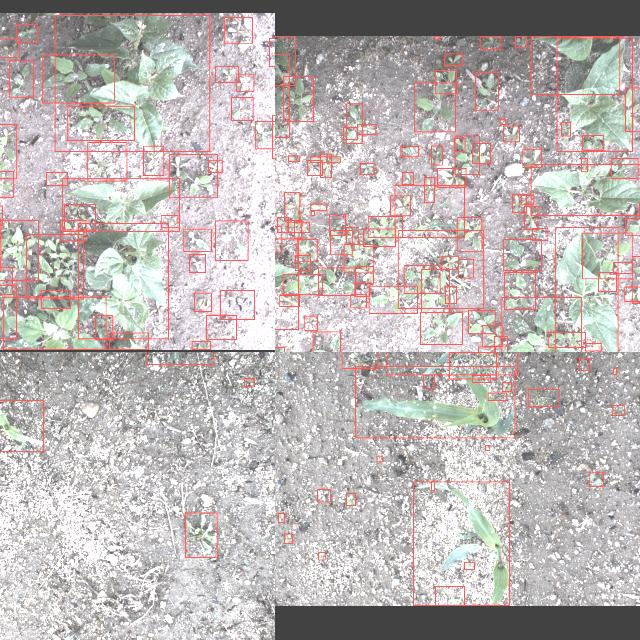crop: (54, 15, 210, 152), (412, 482, 508, 606), (356, 366, 514, 438), (78, 223, 168, 339), (556, 37, 632, 151), (554, 227, 617, 352), (62, 178, 178, 232), (529, 164, 640, 215), (2, 296, 106, 349), (530, 36, 620, 94), (386, 352, 517, 375), (0, 400, 43, 451), (275, 238, 298, 329), (275, 36, 295, 85)
weed: (397, 230, 483, 308), (500, 297, 581, 352), (25, 234, 83, 300), (394, 185, 464, 237), (42, 54, 114, 102), (66, 106, 134, 140), (582, 233, 632, 279), (0, 220, 38, 280), (169, 154, 217, 198), (414, 82, 454, 132), (88, 142, 126, 180), (186, 512, 217, 558), (368, 286, 418, 314), (283, 76, 313, 122), (420, 313, 462, 345), (215, 221, 247, 261), (448, 352, 495, 378), (421, 270, 449, 312), (504, 272, 534, 310), (503, 240, 541, 270), (317, 268, 355, 296), (220, 290, 254, 320), (403, 265, 439, 293), (8, 60, 34, 96), (474, 72, 498, 110), (454, 136, 478, 174), (0, 123, 16, 178), (457, 217, 481, 251), (145, 352, 213, 364), (343, 244, 372, 272), (0, 285, 15, 339), (64, 204, 95, 230), (282, 274, 322, 294), (206, 314, 236, 340), (368, 216, 402, 238), (624, 87, 640, 131), (109, 332, 148, 350), (224, 18, 252, 42), (142, 146, 164, 176), (345, 103, 361, 143), (468, 310, 494, 334), (183, 229, 211, 251), (548, 332, 586, 348), (434, 586, 464, 606), (312, 331, 340, 352), (363, 229, 395, 247), (341, 352, 377, 368), (60, 220, 86, 242), (330, 230, 352, 256), (610, 158, 638, 178), (255, 121, 275, 148), (40, 291, 70, 309), (436, 168, 466, 186), (434, 69, 456, 93), (528, 389, 558, 406), (230, 98, 252, 120), (630, 256, 640, 303), (296, 239, 316, 261), (94, 316, 112, 340), (390, 196, 410, 216), (482, 326, 502, 346), (284, 192, 298, 220), (215, 66, 238, 82), (193, 292, 211, 312), (188, 254, 206, 274), (16, 24, 36, 42), (522, 148, 540, 168), (598, 272, 616, 292), (471, 143, 489, 163), (329, 214, 345, 236), (0, 38, 18, 57), (0, 171, 13, 197), (355, 266, 373, 284), (523, 207, 537, 230), (0, 267, 11, 294), (235, 75, 253, 91), (624, 218, 640, 236), (457, 260, 473, 278), (582, 136, 602, 150), (46, 172, 66, 185), (480, 36, 500, 49), (503, 126, 519, 142), (306, 160, 322, 176), (294, 255, 310, 271), (623, 286, 640, 301), (511, 194, 525, 212), (320, 154, 330, 178), (424, 178, 434, 202), (612, 262, 632, 274), (493, 336, 507, 352), (441, 256, 457, 270), (350, 294, 366, 308), (286, 222, 308, 232), (160, 216, 178, 228), (443, 53, 461, 65), (444, 286, 456, 304), (345, 228, 357, 245), (268, 37, 275, 66), (279, 296, 299, 306), (431, 146, 442, 164), (588, 472, 602, 486), (342, 127, 358, 139), (354, 284, 370, 296), (400, 146, 418, 156), (357, 124, 375, 134), (310, 157, 340, 163), (208, 160, 222, 172), (532, 228, 546, 240), (276, 218, 288, 232), (304, 316, 316, 330), (316, 490, 329, 502), (359, 163, 373, 174), (422, 374, 433, 388), (488, 392, 507, 400), (192, 342, 210, 350), (401, 172, 413, 184), (560, 122, 570, 136), (293, 222, 301, 238), (584, 343, 600, 351), (514, 36, 526, 46), (521, 195, 533, 205), (454, 138, 464, 150), (612, 405, 624, 415), (579, 358, 589, 370), (472, 376, 490, 382), (310, 204, 326, 210), (346, 494, 354, 506), (243, 378, 253, 387), (502, 382, 511, 392), (477, 347, 494, 352), (581, 158, 587, 172), (464, 562, 474, 570), (284, 534, 292, 544), (288, 155, 298, 161), (277, 514, 283, 522), (318, 552, 324, 560), (499, 118, 505, 124), (376, 456, 382, 462), (638, 203, 640, 218), (431, 482, 434, 491), (612, 368, 616, 374), (484, 446, 490, 450), (310, 211, 314, 215), (434, 36, 440, 38)
